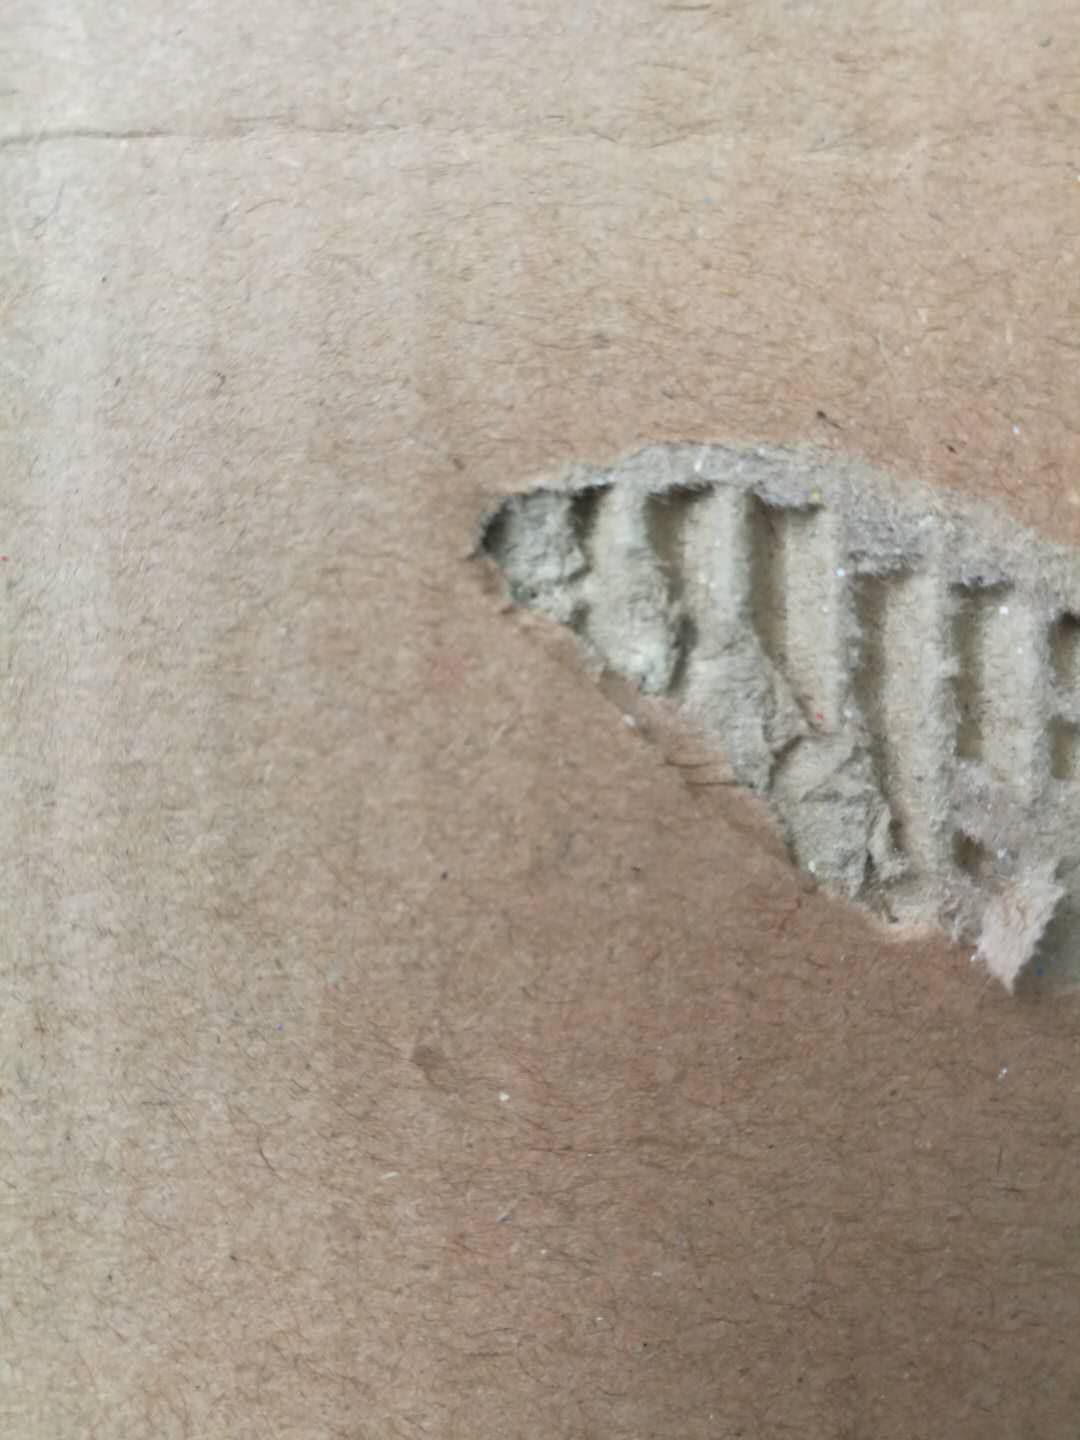defect: (417, 387, 1080, 1077), (3, 70, 1049, 207)
